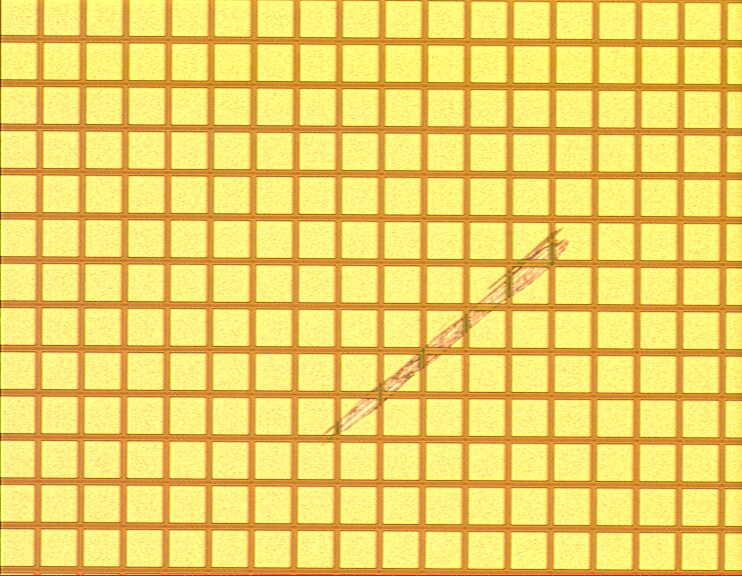SCRATCH: (306, 219, 580, 459)
